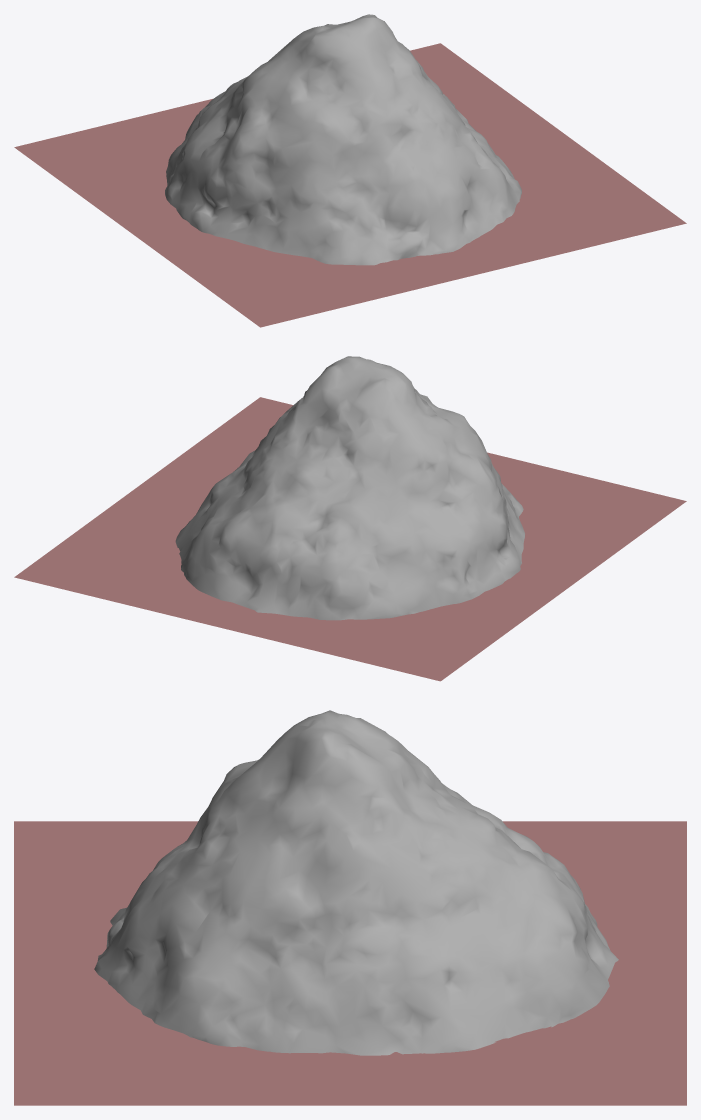
The model's file is Flour_Piles_FBX.fbx.
3 renders of one model, top to bottom at view 1: azimuth 30°, elevation 25°; view 2: azimuth 150°, elevation 25°; view 3: azimuth 270°, elevation 25°, orthographic. The views are drawn at different scales.
Visible parts, largest first — view 1: Powder_Pile_One; view 2: Powder_Pile_One; view 3: Powder_Pile_One.
Part boxes in pixels (box(x1,y1,x2,y2)): Powder_Pile_One: box(14, 14, 686, 327); Powder_Pile_One: box(14, 356, 686, 681); Powder_Pile_One: box(14, 710, 686, 1105).
Bounding box in the file's own units: 73.16 × 30.52 × 73.16.
